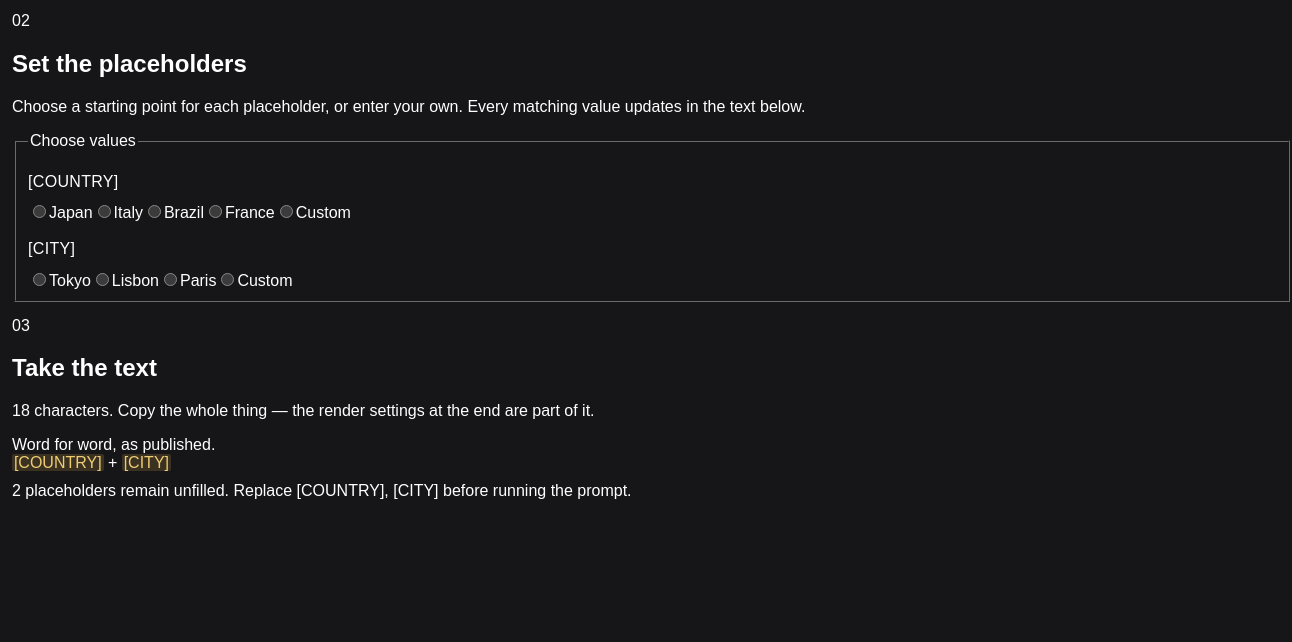
Test: Recipe placeholder journey › allows free input when no options were provided, without interpreting replacement text as another token
The width and height of the screenshot is (1292, 642).
Click the radio button labelled "Custom" next to "France" at x=286, y=212, box [280, 206, 293, 218]
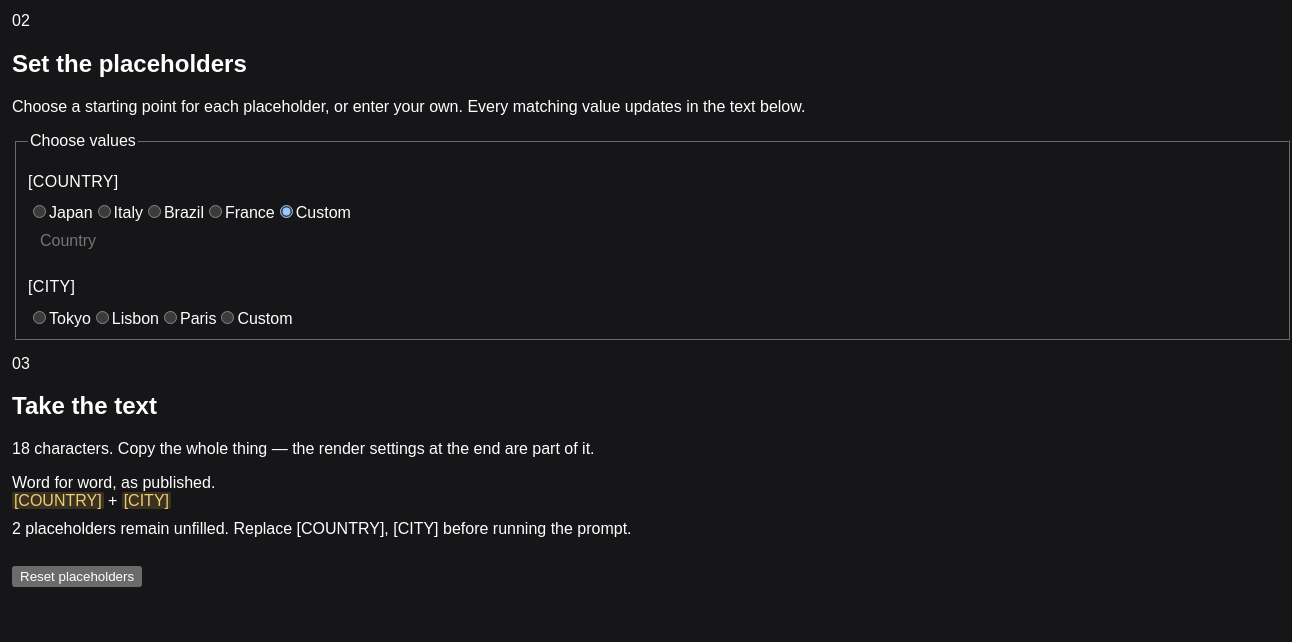
Click the radio button labelled "Custom" next to "Paris" at x=228, y=317, box [221, 311, 234, 324]
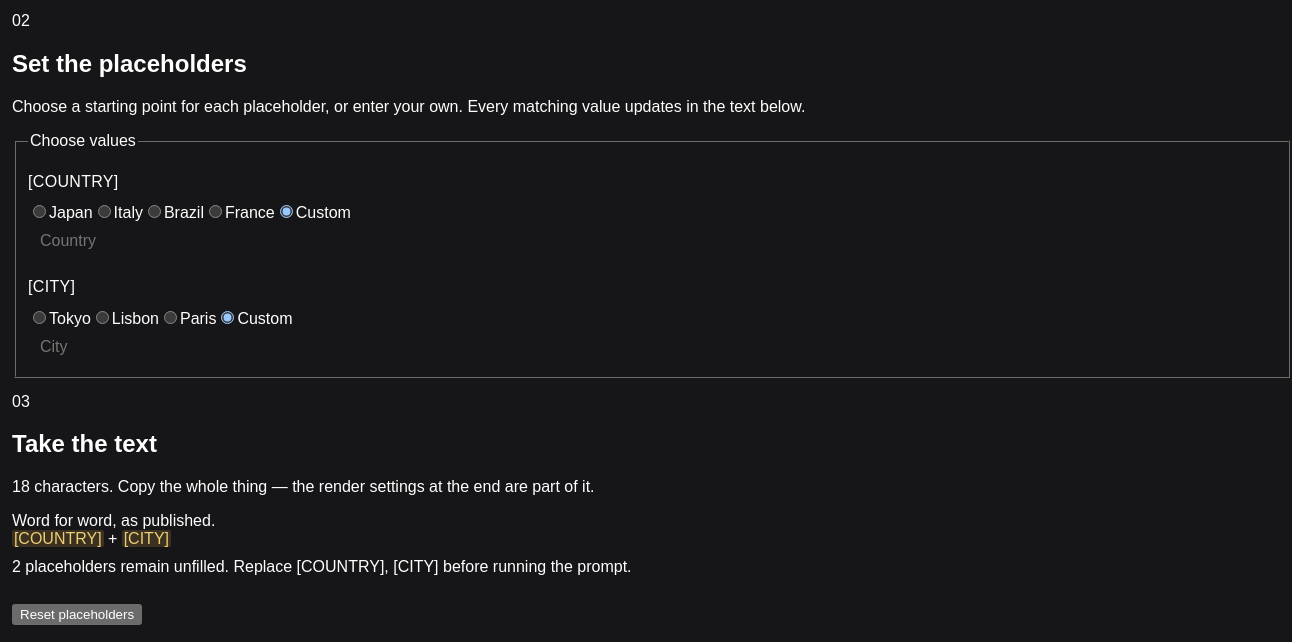
Type "[CITY]" into the field labelled "[COUNTRY]" at x=652, y=242, box [28, 222, 1276, 260]
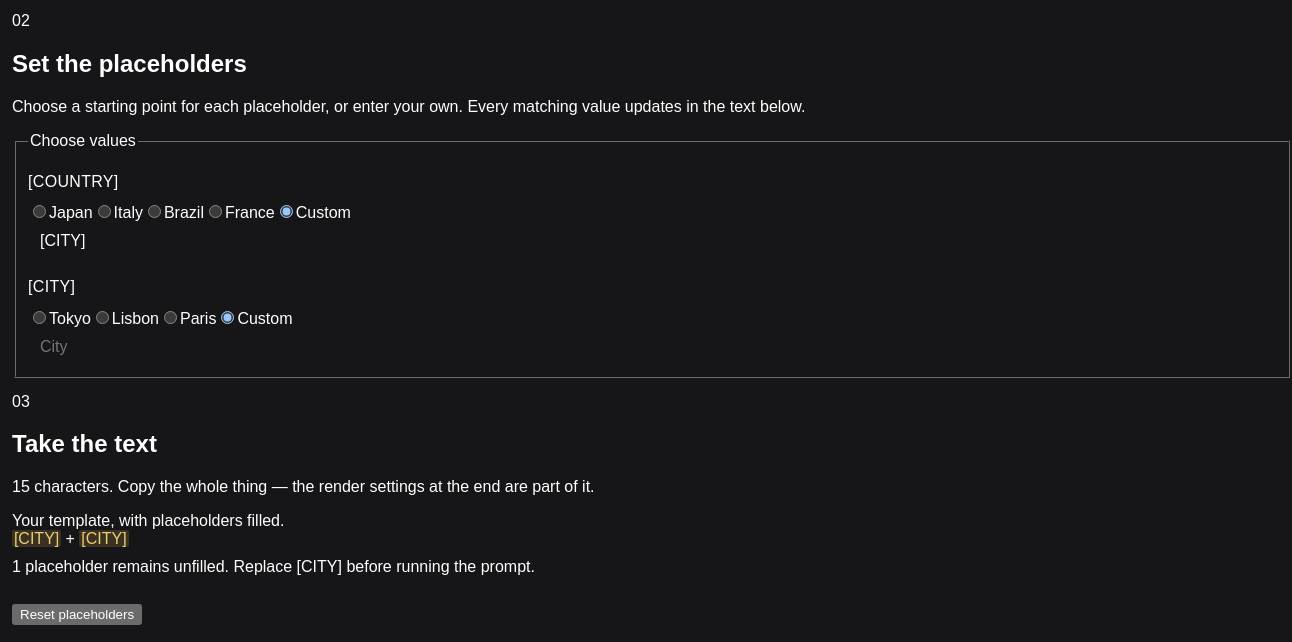
Type "Kyoto" into the field labelled "[CITY]" at x=652, y=347, box [28, 328, 1276, 366]
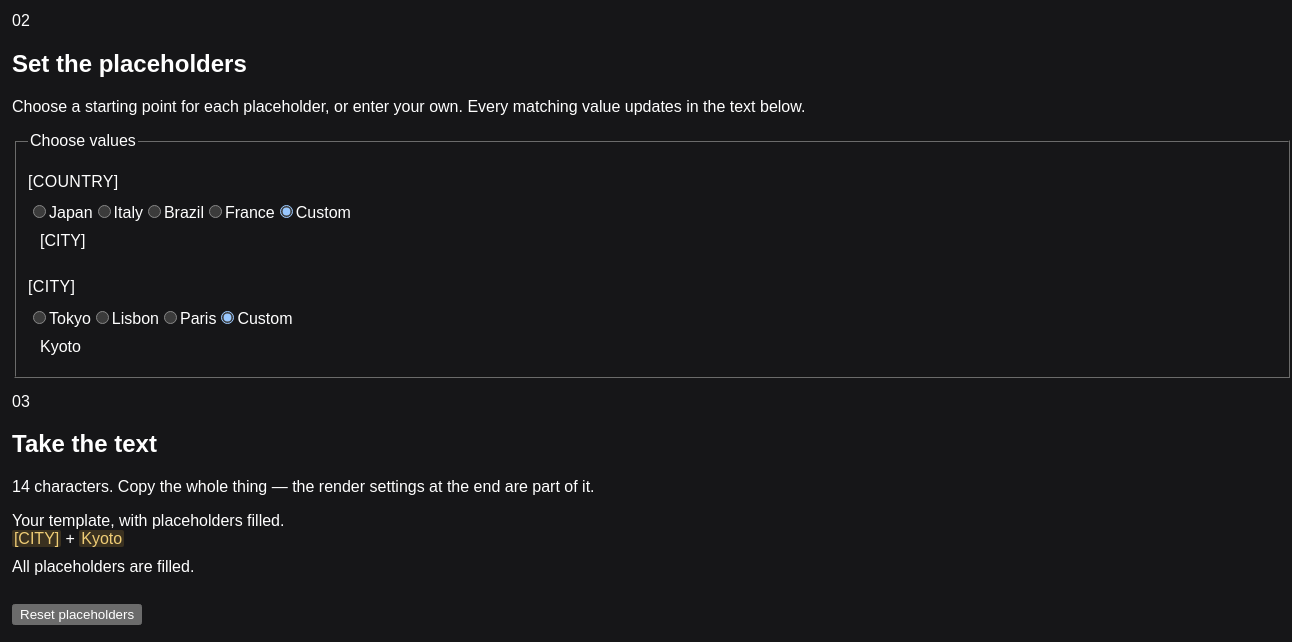
Expected: the element showing "[CITY] + Kyoto" is shown, [12, 530, 124, 547]
